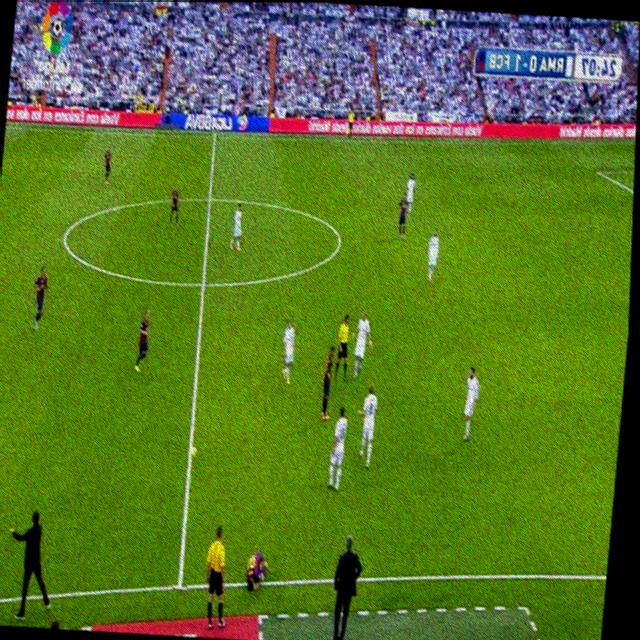halfcircle_bottom: (197, 270, 210, 296)
halfcircle_top: (203, 186, 215, 208)
midline_bottom_intersection: (171, 571, 187, 596)
midline_top_intersection: (210, 130, 219, 144)
